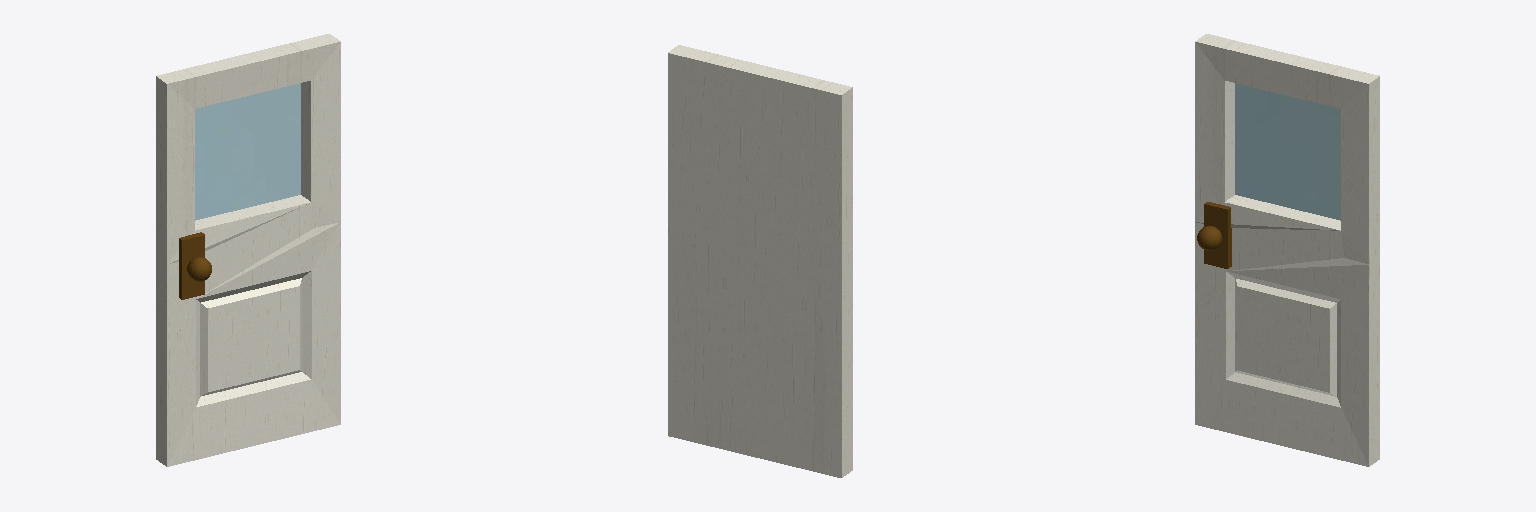
The picture shows the model from 3 angles: view 1: azimuth 30°, elevation 25°; view 2: azimuth 150°, elevation 25°; view 3: azimuth 330°, elevation 25°; orthographic projection.
Parts seen in each view (by area): view 1: polySurface4; view 2: polySurface4; view 3: polySurface4.
Boxes of the visible parts, box(x1,y1,x2,y2) form: polySurface4: box(156, 34, 340, 466); polySurface4: box(668, 45, 852, 477); polySurface4: box(1195, 34, 1379, 466).
Bounding box in the file's own units: 1.4 × 2.94 × 0.3693.
Materials: 3 (3 with a texture image).